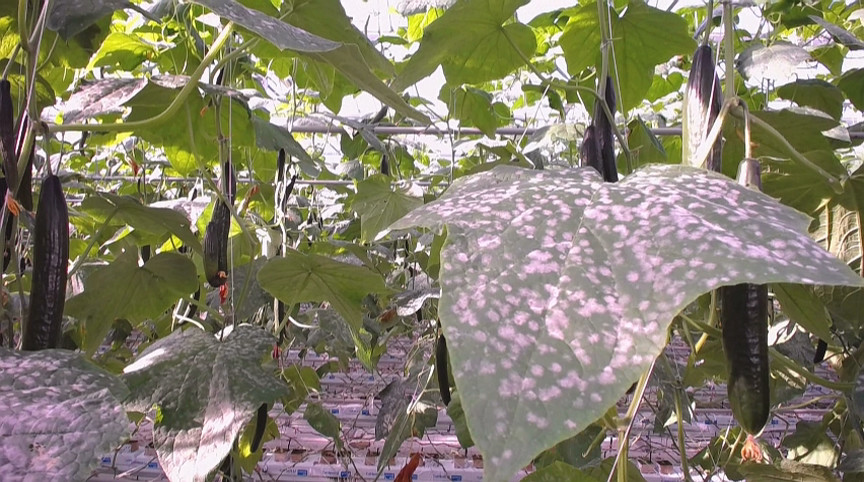cucumber: (723, 158, 767, 432), (24, 174, 69, 350), (681, 48, 723, 172), (204, 197, 233, 289), (596, 78, 618, 184), (1, 77, 18, 193)
